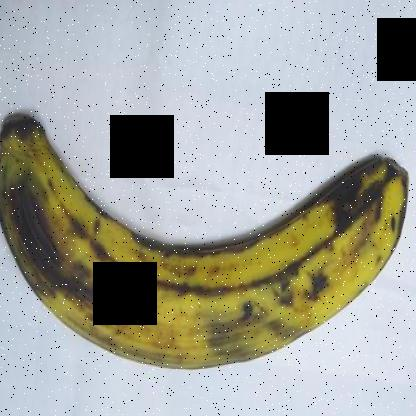overripe: (1, 104, 413, 374)
